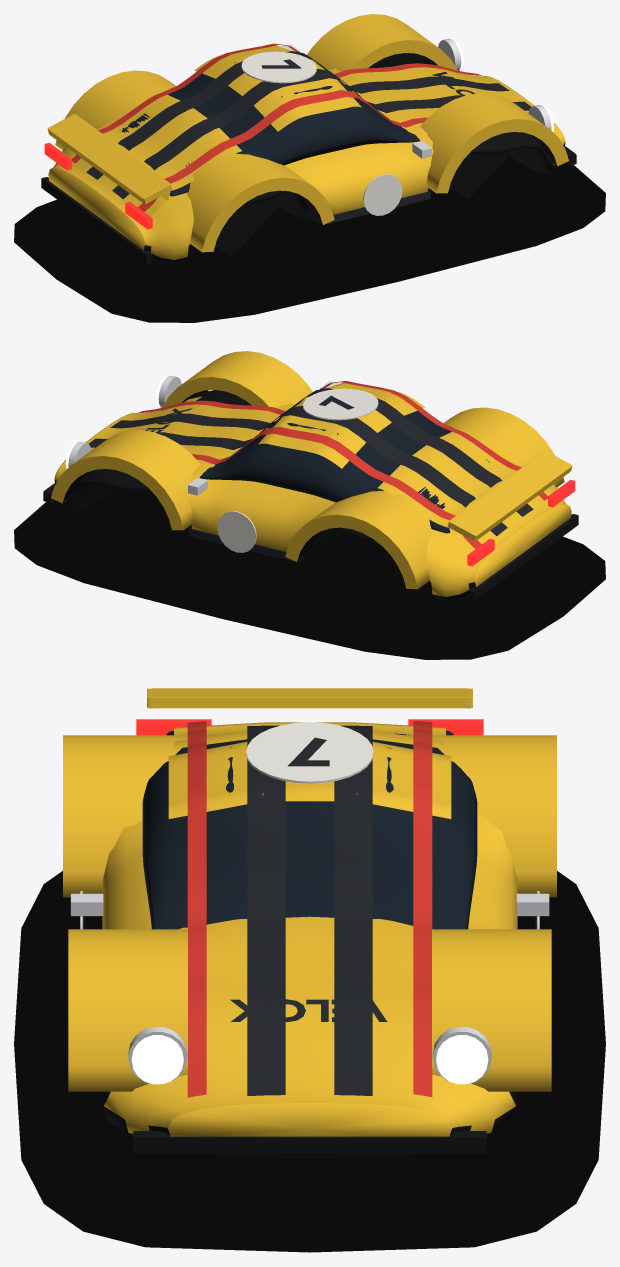
The model's file is car-4.glb.
The picture shows the model from 3 angles, top to bottom: view 1: azimuth 30°, elevation 25°; view 2: azimuth 150°, elevation 25°; view 3: azimuth 270°, elevation 25°; orthographic projection. The views are drawn at different scales.
Visible parts, largest first — view 1: car-4; view 2: car-4; view 3: car-4.
Boxes of the visible parts, <box> form: car-4: <box>14,14,605,322</box>; car-4: <box>14,351,605,659</box>; car-4: <box>14,688,605,1252</box>.
Size of the model in its own units: 3.8 by 1.15 by 2.28.
